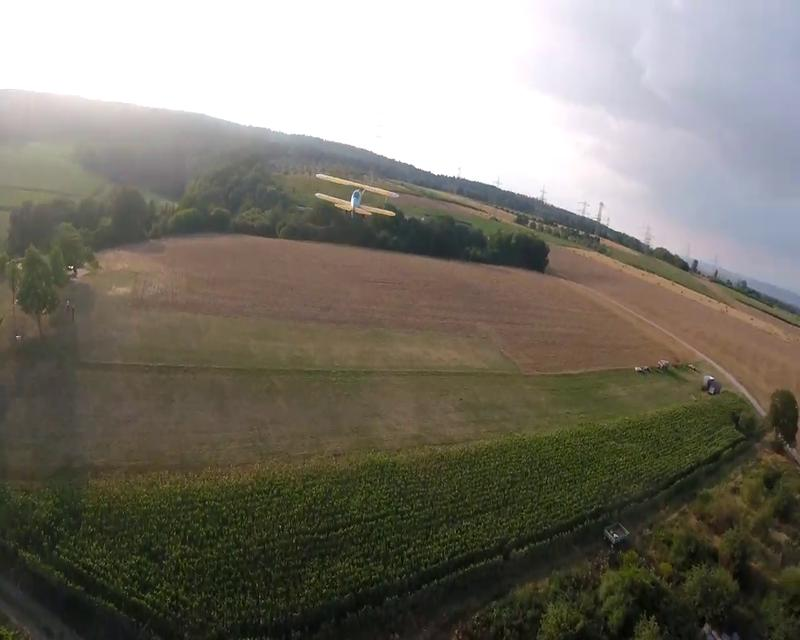UAV: (315, 173, 399, 217)
